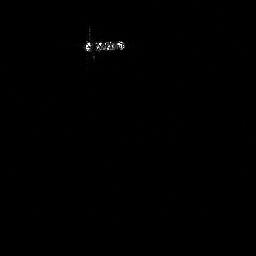ship: (80, 36, 129, 57)
